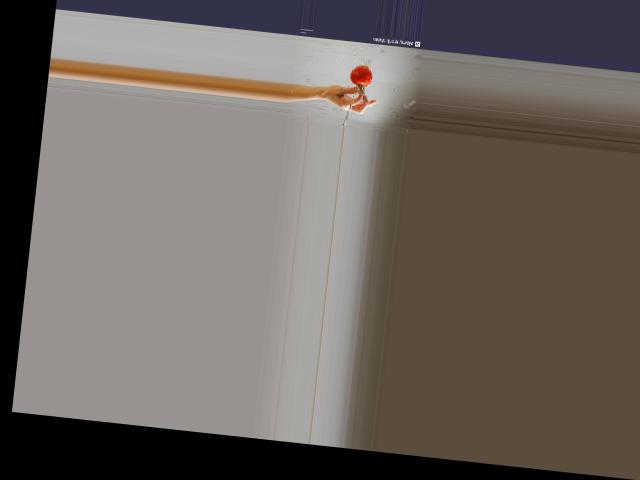tomato: (348, 63, 372, 86)
